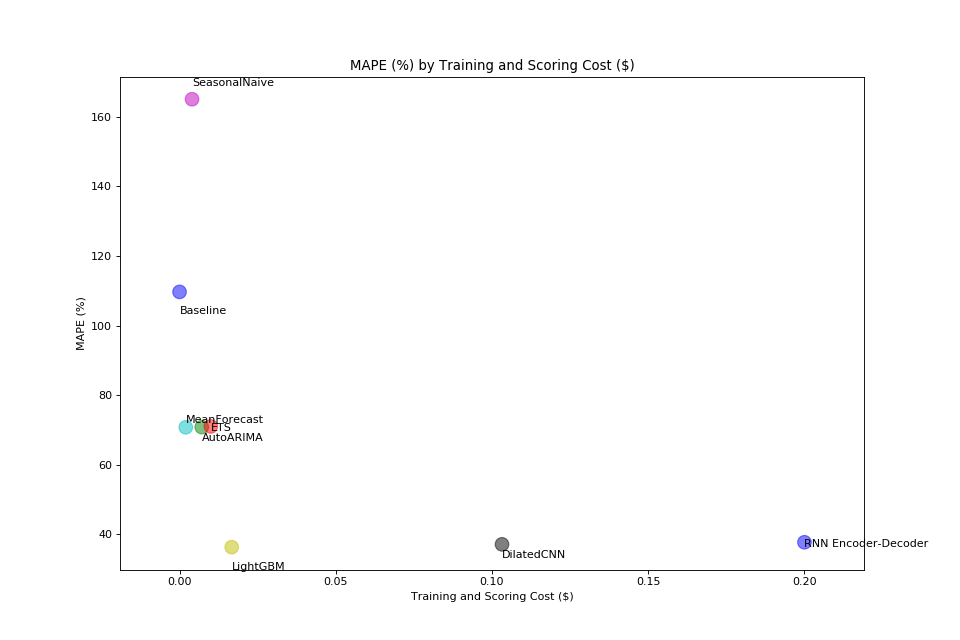

Layout of this report page (visuals, bound fields, positions):
{"tool":"powerbi","page":{"name":"Cost - Retail","canvas":[1280,720],"ordinal":2},"visuals":[{"type":"scatterChart","fields":{"X":["Sum(Table1.Training and Scoring Cost)"],"Y":["Sum(Table1.MAPE (%))"],"Series":["Table1.Submission Name"]},"box":[162.3,22.2,840.9,698.4],"z":1}]}

Visuals, with their boxes on the page's 1280x720 design canvas (x1, y1, x2, y2). These are canvas units, not pixel positions in the 960x640 screenshot, which may show the page scaled, cropped or inside an application window:
scatterChart - Sum(Table1.Training and Scoring Cost) x Sum(Table1.MAPE (%)): locate(162, 22, 1003, 721)
